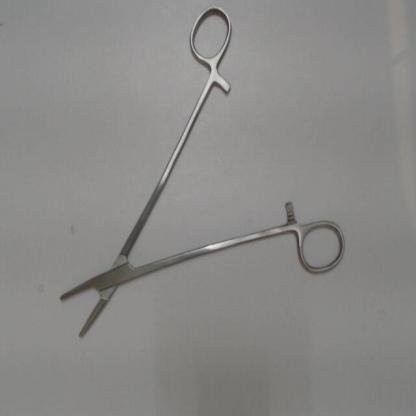8 Mayo Needle Holder: (40, 3, 355, 357)
